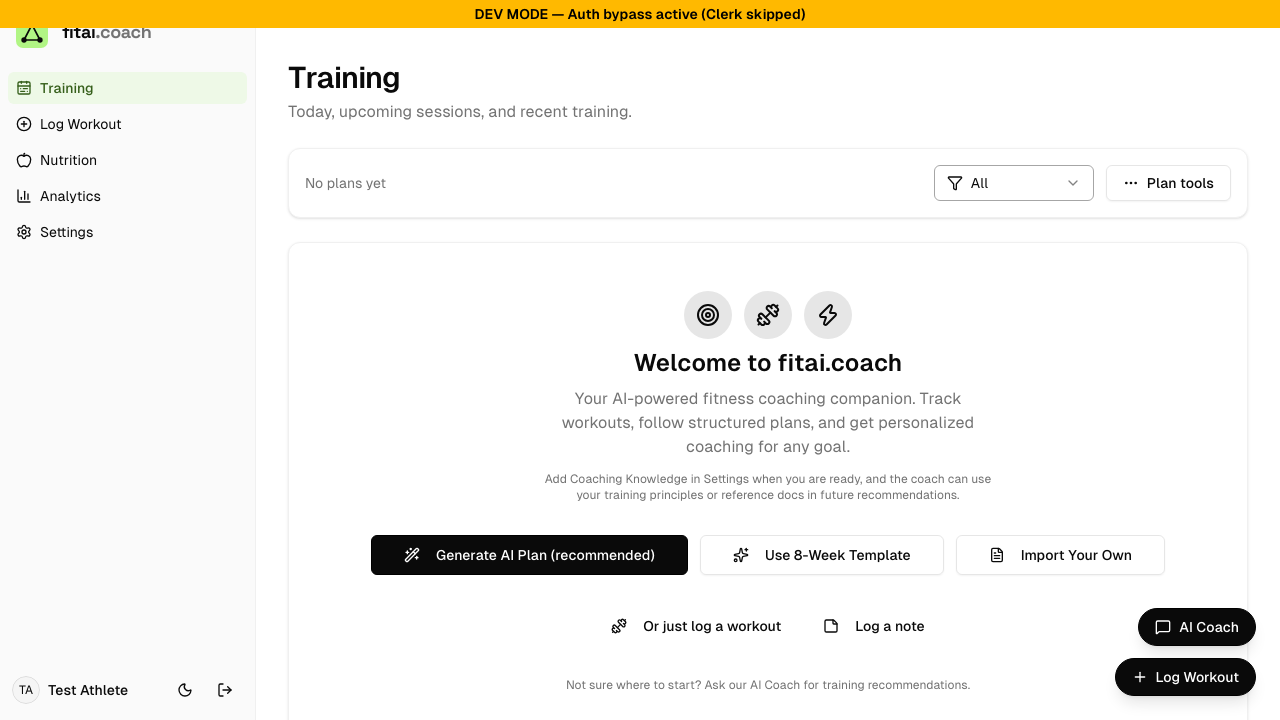
Test: Plan Generation › opens the generate dialog from the Timeline empty state
Click the button with test id "button-generate-ai-plan".
click(530, 555)  # box [371,535,688,575]
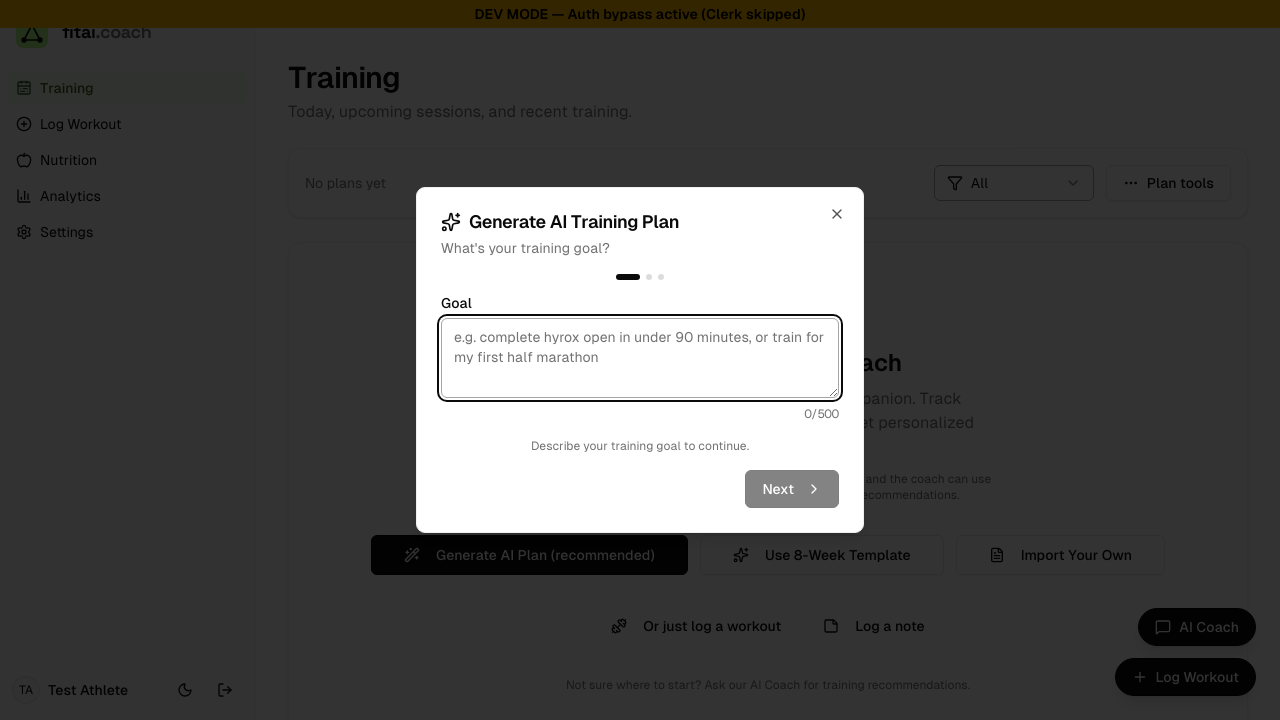
Now the heading "Generate AI Training Plan" is shown, box [441,211,679,232]
Now the text "What's your training goal?" is shown, box [441,240,610,256]
